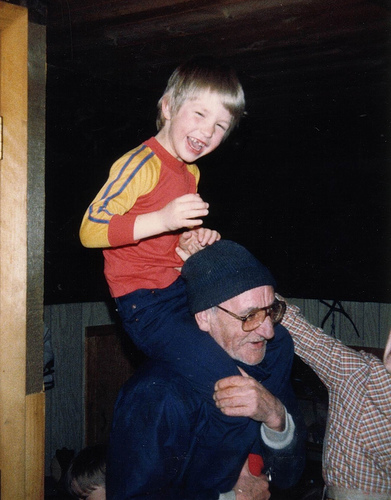without_mask: (199, 273, 282, 367), (155, 80, 235, 162)
